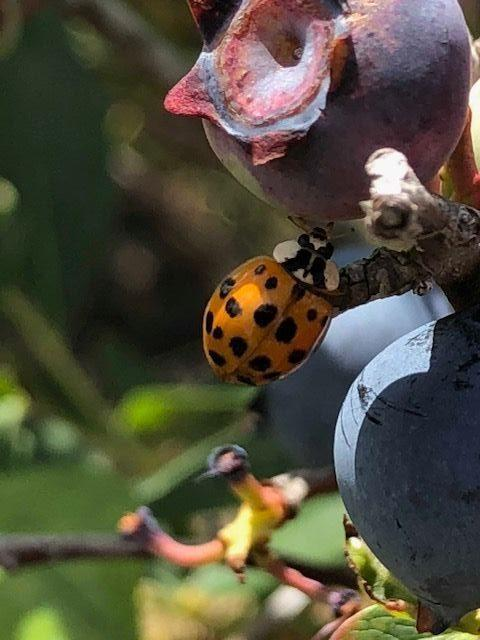ladybug: (199, 214, 349, 394)
